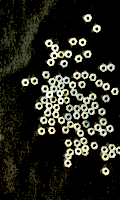nut: (84, 14, 93, 23), (47, 59, 56, 67), (100, 64, 108, 73), (31, 77, 39, 86), (40, 117, 49, 125), (94, 25, 102, 33), (79, 39, 87, 47), (52, 44, 60, 52), (58, 51, 66, 59), (61, 60, 69, 68), (75, 55, 83, 63), (108, 64, 116, 72), (22, 79, 30, 87), (112, 88, 120, 96), (90, 74, 98, 82), (82, 72, 90, 80), (63, 77, 71, 85), (56, 75, 64, 83), (49, 78, 57, 86), (79, 81, 87, 89), (58, 82, 66, 90), (71, 89, 79, 97), (92, 102, 100, 110), (74, 105, 82, 113), (88, 108, 96, 116), (99, 108, 107, 116), (82, 112, 90, 120), (58, 117, 66, 125), (38, 128, 46, 136), (83, 121, 91, 129), (95, 124, 103, 132), (100, 129, 108, 137), (88, 128, 96, 136), (65, 160, 73, 168), (75, 148, 83, 156), (69, 38, 78, 45), (84, 51, 93, 58), (48, 128, 57, 135), (100, 119, 109, 126), (46, 40, 54, 47), (51, 52, 58, 60), (65, 51, 73, 58), (43, 72, 51, 79), (103, 84, 111, 91), (96, 80, 104, 87), (74, 72, 81, 80), (103, 96, 111, 103), (42, 86, 50, 93), (90, 93, 97, 101), (84, 97, 91, 105), (47, 91, 54, 99), (57, 90, 64, 98), (63, 89, 70, 97), (77, 94, 85, 101), (64, 97, 71, 105), (50, 97, 58, 104), (41, 97, 49, 104), (36, 103, 44, 110), (46, 103, 54, 110), (53, 105, 61, 112), (67, 105, 74, 113), (81, 105, 89, 112), (44, 110, 52, 117), (74, 113, 82, 120), (65, 114, 73, 121), (48, 119, 56, 126), (62, 127, 70, 134), (68, 121, 75, 129), (74, 124, 82, 131), (107, 125, 114, 133), (77, 130, 85, 137), (81, 138, 89, 145), (74, 140, 81, 148), (65, 140, 73, 147), (82, 149, 89, 157), (91, 143, 99, 150), (101, 147, 109, 154), (109, 145, 117, 152), (103, 168, 110, 176), (109, 152, 117, 159), (102, 154, 110, 161), (70, 82, 77, 89), (51, 86, 58, 93), (58, 98, 65, 105), (53, 112, 60, 119), (67, 149, 74, 156), (82, 146, 90, 152), (65, 154, 72, 160), (116, 147, 120, 155)
